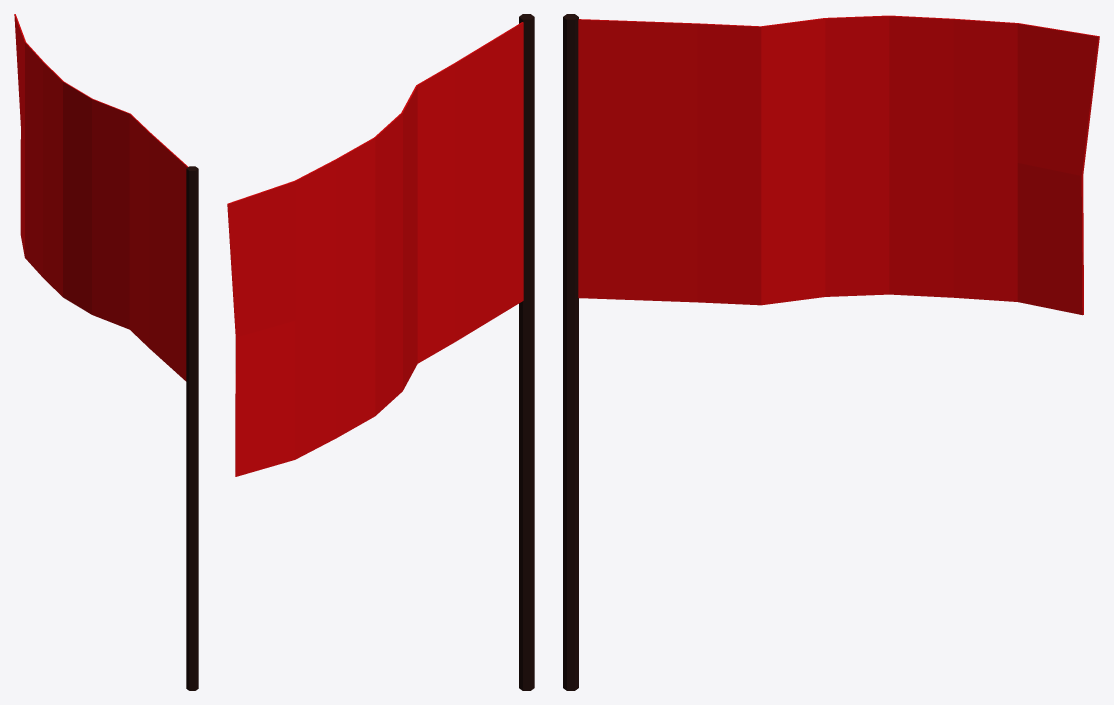
The model's file is bandeira_vermelha.fbx.
The picture shows the model from 3 angles, left to right: view 1: azimuth 30°, elevation 25°; view 2: azimuth 150°, elevation 25°; view 3: azimuth 270°, elevation 25°; orthographic projection. The views are drawn at different scales.
Visible parts, largest first — view 1: bandeira, mastro; view 2: bandeira, mastro; view 3: bandeira, mastro.
Boxes of the visible parts, left/top/right/bottom form: bandeira: left=14, top=14, right=187, bottom=381; mastro: left=186, top=166, right=198, bottom=690; bandeira: left=227, top=22, right=523, bottom=476; mastro: left=519, top=14, right=534, bottom=690; bandeira: left=578, top=15, right=1099, bottom=315; mastro: left=563, top=14, right=578, bottom=690.
Bounding box in the file's own units: 47.71 × 702 × 509.
